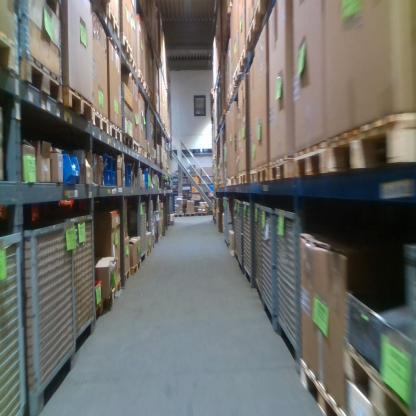pallet: (325, 117, 416, 173), (343, 337, 408, 415), (300, 356, 341, 416), (21, 50, 63, 103), (295, 139, 326, 177), (63, 85, 93, 123), (0, 28, 20, 76), (254, 1, 273, 34), (272, 155, 294, 183), (246, 18, 263, 53), (91, 108, 110, 135), (95, 292, 109, 324), (107, 5, 120, 37), (237, 43, 248, 78), (121, 31, 131, 66), (110, 277, 121, 306), (109, 123, 123, 144), (257, 165, 271, 184), (131, 259, 141, 278), (123, 133, 134, 150), (123, 265, 131, 286), (234, 63, 239, 90), (249, 169, 257, 184), (132, 139, 140, 154), (240, 170, 249, 183), (146, 246, 151, 260), (197, 211, 207, 216), (174, 213, 183, 218), (185, 213, 195, 217)
small_load_carrier: (99, 150, 111, 188), (110, 155, 118, 189), (126, 161, 132, 189), (142, 169, 149, 191)
stillage: (27, 217, 77, 414), (274, 205, 308, 378), (0, 230, 27, 415), (67, 209, 96, 369), (261, 203, 275, 331), (126, 199, 147, 266), (243, 195, 254, 290), (254, 201, 264, 305), (237, 197, 245, 271), (227, 197, 235, 251), (234, 196, 240, 259), (221, 194, 228, 241)
